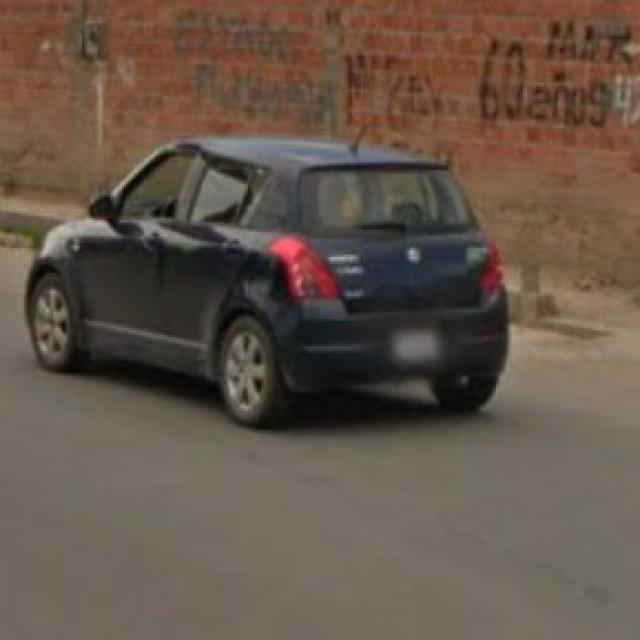cars: (31, 126, 511, 426)
